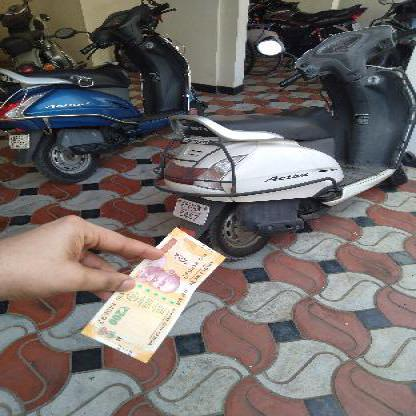New200Front: (90, 228, 226, 363)
